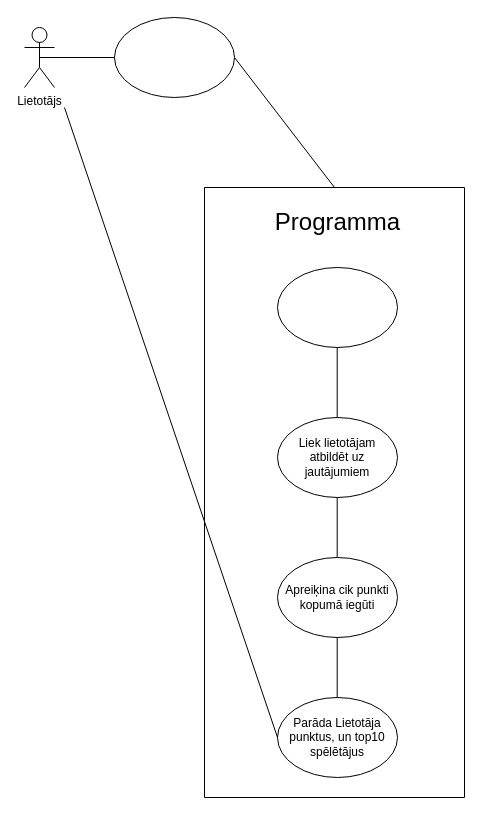
This 483x816 diagram has some shape labels left out. Each missing label, with the centre of its shape:
Pajautā, lai lietotājs ievada vārdu: the point at 337,307
Palaiž programmu: the point at 174,57
